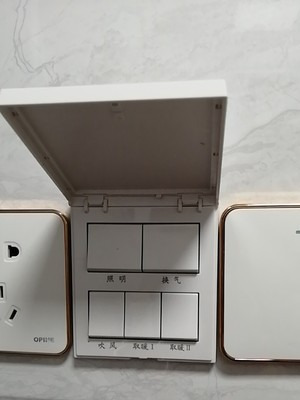switch: (140, 217, 206, 281), (82, 214, 146, 275), (155, 287, 203, 348), (83, 284, 130, 346), (122, 288, 165, 344)
